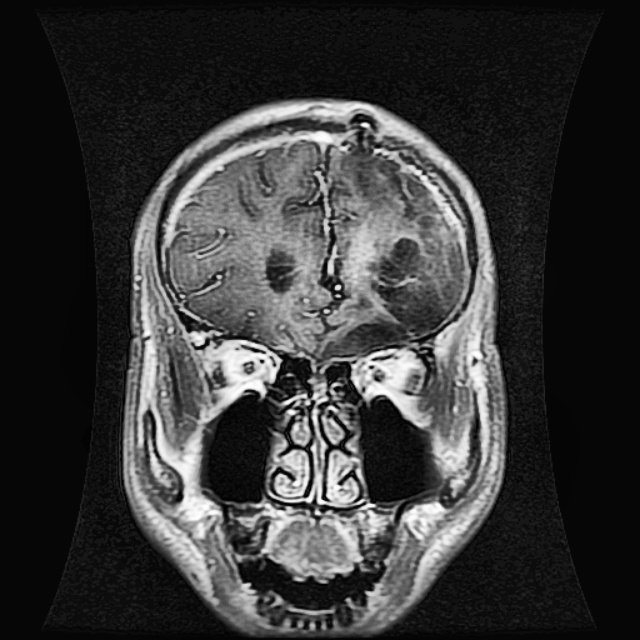Meningioma: (317, 229, 464, 358)
